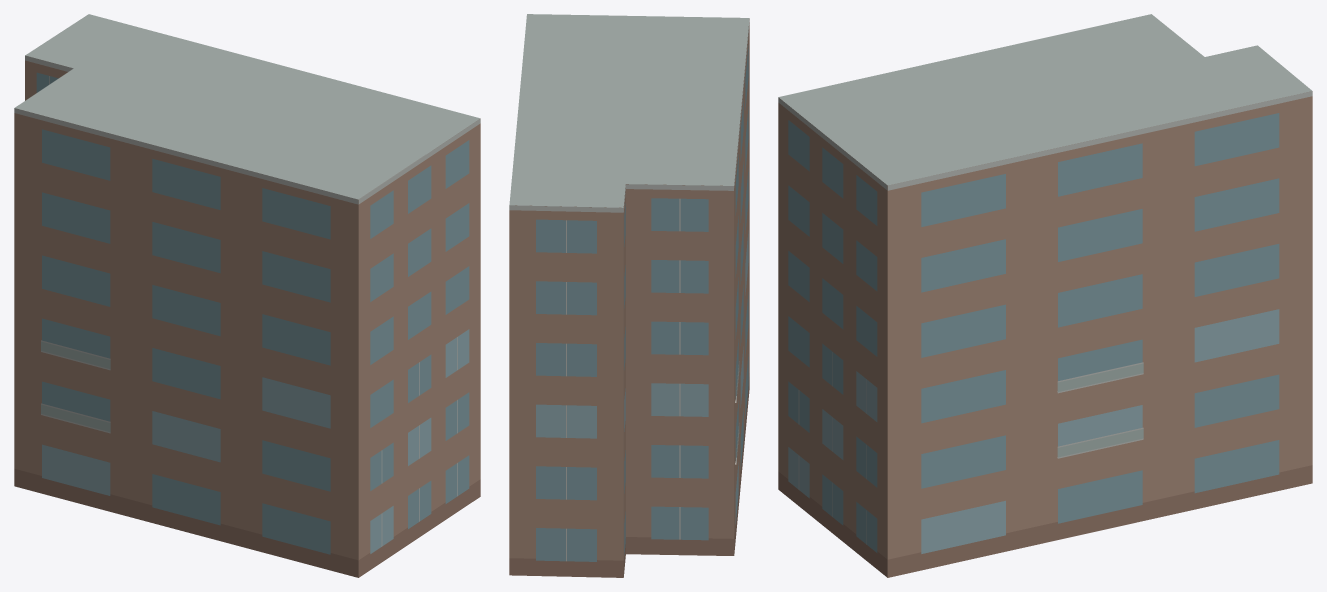
The model's file is survey-upis-33008169.glb.
The picture shows the model from 3 angles, left to right: view 1: azimuth 30°, elevation 25°; view 2: azimuth 150°, elevation 25°; view 3: azimuth 270°, elevation 25°; orthographic projection. The views are drawn at different scales.
Visible parts, largest first — view 1: survey-upis-33008169.tmp; view 2: survey-upis-33008169.tmp; view 3: survey-upis-33008169.tmp.
Boxes of the visible parts, left/top/right/bottom form: survey-upis-33008169.tmp: left=14, top=14, right=480, bottom=577; survey-upis-33008169.tmp: left=509, top=14, right=749, bottom=577; survey-upis-33008169.tmp: left=778, top=14, right=1312, bottom=577.
Size of the model in its own units: 17.17 by 18.3 by 22.6.
